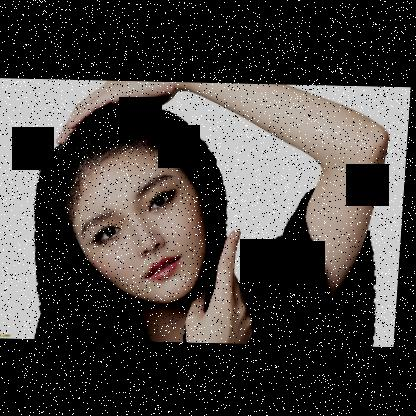Female: (69, 145, 214, 302)
